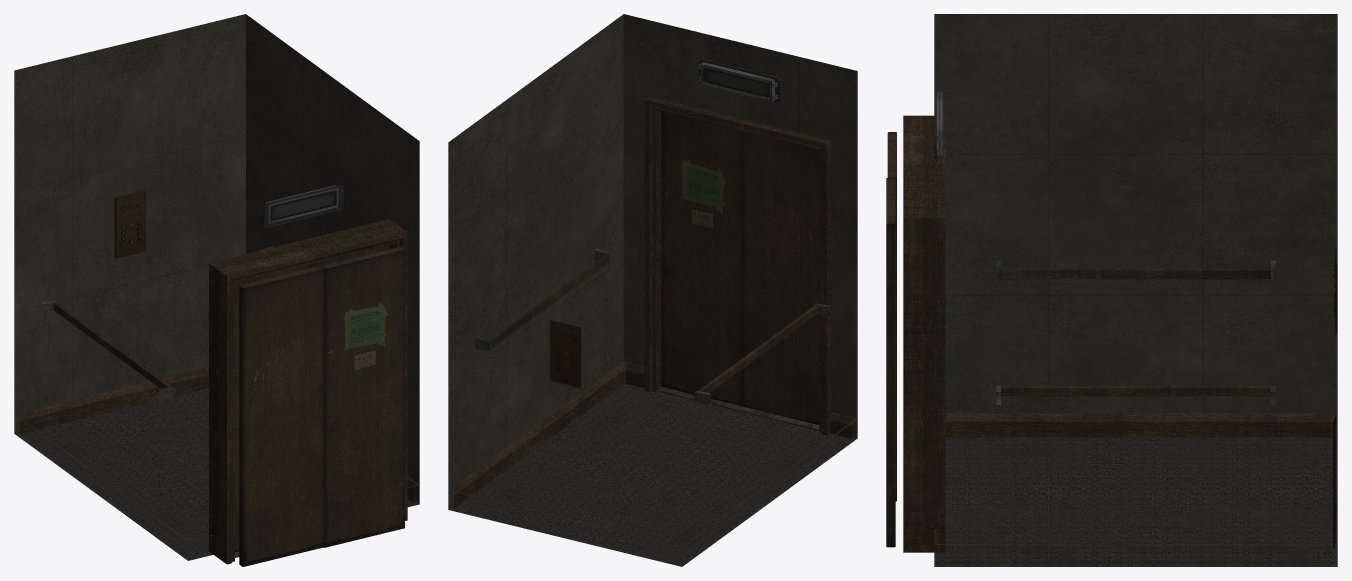
File: elevator_2.glb
The picture shows the model from 3 angles, left to right: view 1: azimuth 30°, elevation 25°; view 2: azimuth 150°, elevation 25°; view 3: azimuth 270°, elevation 25°; orthographic projection. The views are drawn at different scales.
Parts seen in each view (by area): view 1: elevator_2, elevator_door_3_b, elevator_door_3_a, elevator_door_4_b; view 2: elevator_2, elevator_door_4_a, elevator_door_4_b; view 3: elevator_2, elevator_door_3_a, elevator_door_3_b.
Boxes of the visible parts, box(x1,y1,x2,y2) form: elevator_2: box(14, 14, 419, 564); elevator_door_3_b: box(239, 266, 323, 566); elevator_door_3_a: box(321, 247, 404, 547); elevator_door_4_b: box(235, 264, 309, 552); elevator_2: box(448, 14, 857, 566); elevator_door_4_a: box(661, 112, 742, 406); elevator_door_4_b: box(742, 132, 819, 424); elevator_2: box(903, 14, 1337, 566); elevator_door_3_a: box(886, 178, 895, 547); elevator_door_3_b: box(887, 132, 896, 501).
Size of the model in its own units: 2 by 3 by 2.91.
Materials: 7 (7 with a texture image).
